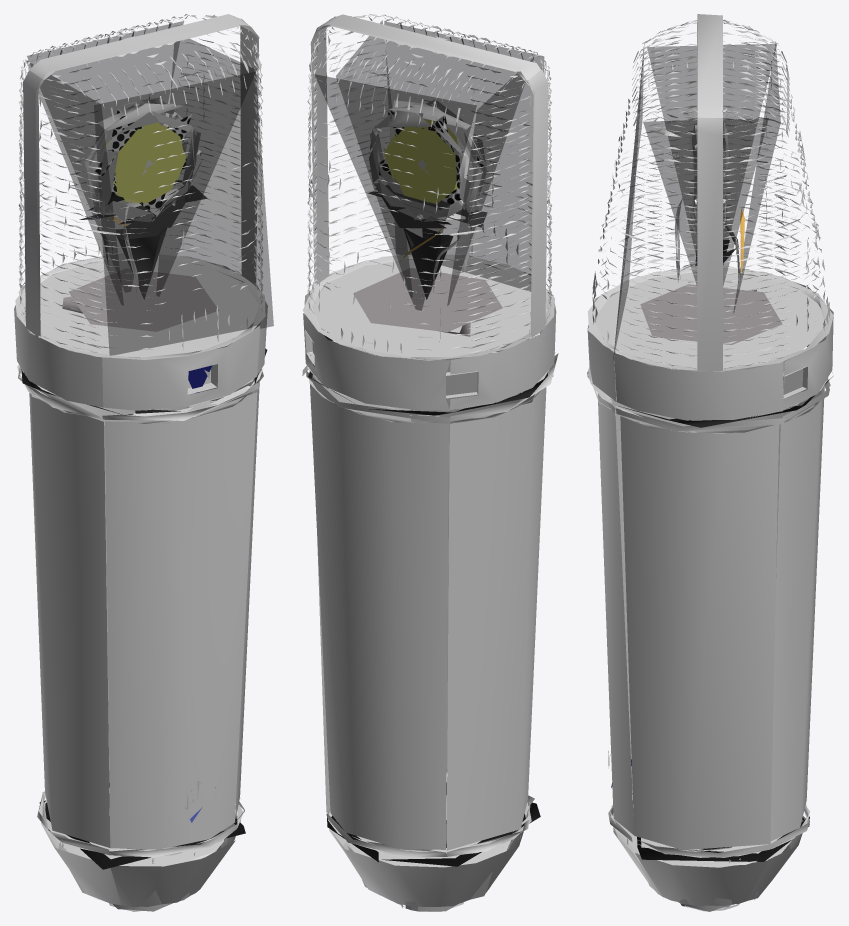
Rendered from neumann-u87-ai.glb.
3 renders of one model, left to right at view 1: azimuth 30°, elevation 25°; view 2: azimuth 150°, elevation 25°; view 3: azimuth 270°, elevation 25°, orthographic. The views are drawn at different scales.
Visible parts, largest first — view 1: U87 Main_6, Microphone Screen_3, Diaphram_5, Microphone Mesh_2; view 2: U87 Main_6, Microphone Screen_3, Diaphram_5, Microphone Mesh_2; view 3: U87 Main_6, Microphone Screen_3, Microphone Mesh_2, Diaphram_5.
Boxes of the visible parts, x1=… form: U87 Main_6: x1=14, y1=14, x2=267, y2=911; Microphone Screen_3: x1=26, y1=21, x2=273, y2=355; Diaphram_5: x1=62, y1=99, x2=218, y2=331; Microphone Mesh_2: x1=18, y1=14, x2=263, y2=352; U87 Main_6: x1=302, y1=14, x2=558, y2=911; Microphone Screen_3: x1=315, y1=20, x2=543, y2=310; Diaphram_5: x1=353, y1=100, x2=502, y2=336; Microphone Mesh_2: x1=307, y1=14, x2=552, y2=353; U87 Main_6: x1=587, y1=14, x2=833, y2=911; Microphone Screen_3: x1=613, y1=43, x2=780, y2=358; Microphone Mesh_2: x1=592, y1=19, x2=830, y2=368; Diaphram_5: x1=640, y1=120, x2=782, y2=344.
Size of the model in its own units: 1.27 by 4.61 by 1.24.
Materials: 20 (1 with a texture image).
